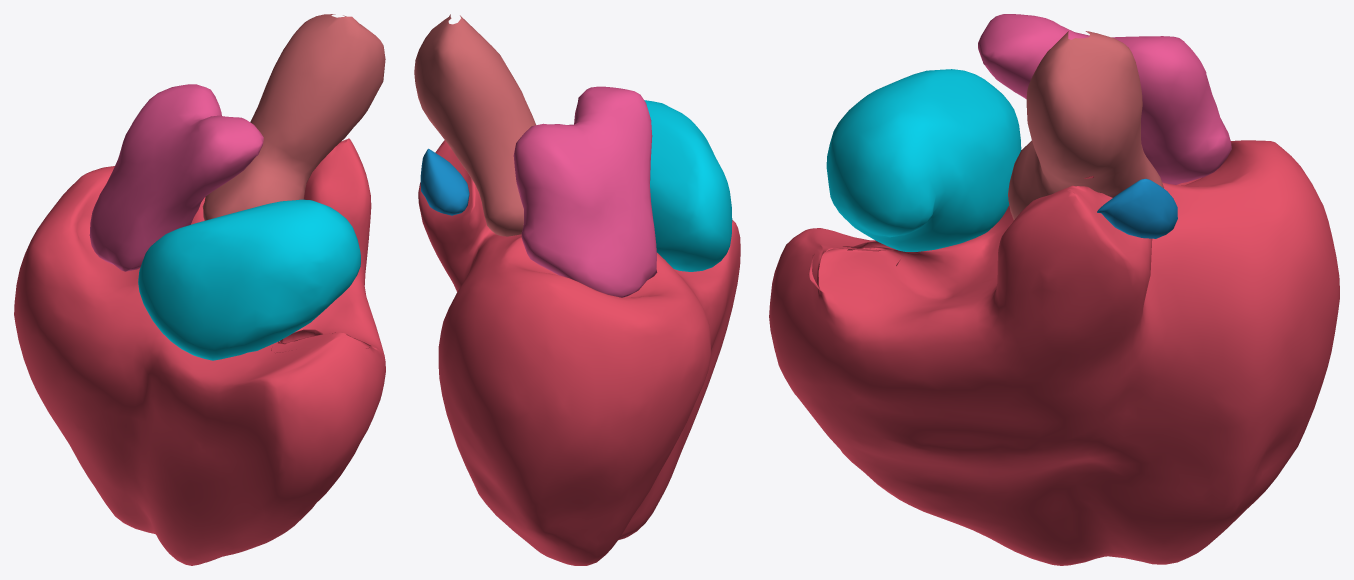
File: frame_45.glb
3 renders of one model, left to right at view 1: azimuth 30°, elevation 25°; view 2: azimuth 150°, elevation 25°; view 3: azimuth 270°, elevation 25°, orthographic. The views are drawn at different scales.
Visible parts, largest first — view 1: Renderer Node; view 2: Renderer Node; view 3: Renderer Node.
Boxes of the visible parts, x1,y1,x2,y2 form: Renderer Node: (14, 14, 385, 565); Renderer Node: (414, 14, 740, 565); Renderer Node: (769, 14, 1339, 565).
Size of the model in its own units: 105 by 162 by 133.
